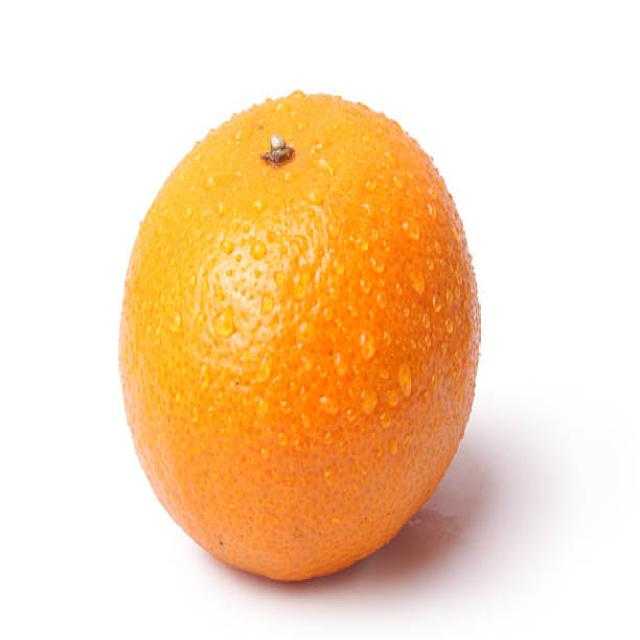Ripe: (114, 73, 483, 589)
